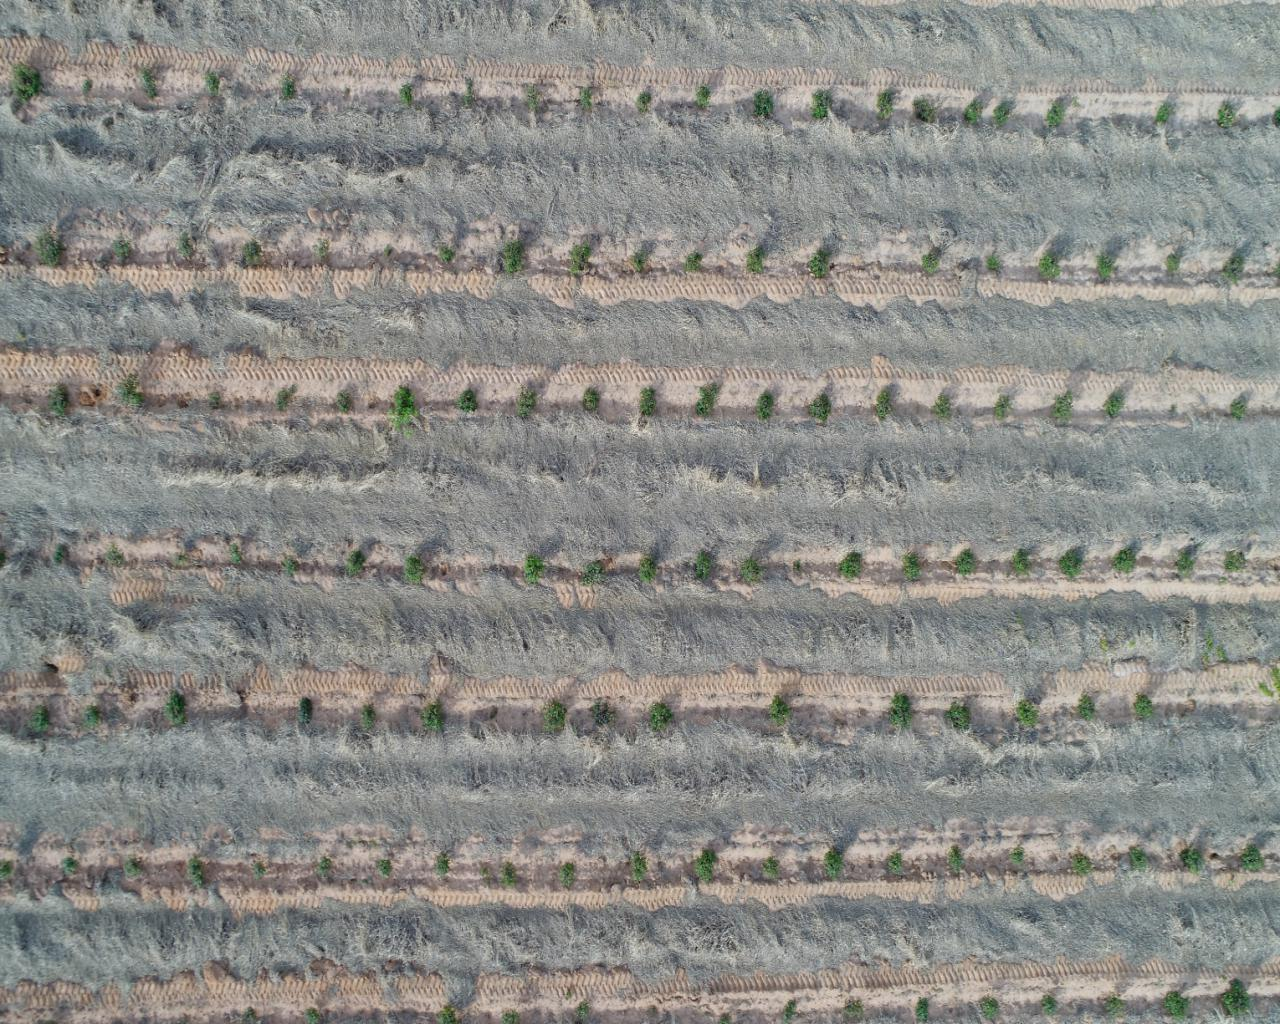Tree: (1218, 979, 1252, 1015), (402, 550, 424, 591), (886, 694, 915, 725), (942, 844, 970, 878), (114, 378, 144, 408), (766, 694, 792, 725), (691, 851, 715, 883), (1178, 844, 1205, 872), (1164, 991, 1191, 1019), (14, 68, 39, 97), (821, 852, 846, 880), (629, 852, 648, 889), (946, 702, 971, 729), (650, 704, 674, 732), (544, 700, 563, 736), (342, 549, 367, 575), (1015, 700, 1041, 725), (840, 552, 865, 578), (913, 93, 937, 120), (810, 391, 830, 423), (1076, 693, 1097, 723), (955, 548, 976, 578), (422, 702, 445, 729), (753, 91, 775, 119), (1240, 846, 1262, 875), (506, 239, 523, 274), (809, 91, 832, 117), (164, 695, 187, 721), (30, 705, 52, 732), (1060, 548, 1081, 575), (394, 391, 414, 420), (1094, 251, 1114, 280), (239, 239, 262, 264), (1035, 255, 1061, 278), (1112, 549, 1135, 574), (123, 859, 148, 882), (1069, 855, 1094, 878), (876, 89, 894, 119), (993, 99, 1011, 130), (809, 248, 825, 280), (187, 860, 207, 887), (1045, 102, 1064, 131), (635, 557, 657, 581), (1104, 994, 1126, 1018), (1223, 254, 1239, 285), (993, 394, 1014, 419), (754, 390, 771, 421), (178, 233, 197, 259), (111, 228, 130, 255), (1224, 551, 1247, 573), (695, 387, 713, 415), (585, 561, 604, 587), (904, 553, 921, 582), (921, 251, 941, 274), (1106, 392, 1125, 416), (589, 702, 613, 722), (51, 385, 67, 415), (79, 704, 98, 729), (1014, 548, 1030, 576), (517, 391, 535, 417), (639, 387, 655, 416), (695, 552, 711, 581), (842, 995, 863, 1017), (1134, 695, 1154, 718), (526, 557, 542, 584), (1165, 251, 1183, 276), (358, 704, 376, 729), (877, 391, 892, 419), (573, 242, 586, 275), (913, 999, 932, 1022), (43, 239, 61, 263), (981, 994, 998, 1019), (501, 864, 521, 884), (142, 70, 156, 100), (527, 85, 540, 115), (298, 697, 313, 723), (1054, 394, 1072, 417), (744, 557, 761, 581), (1156, 101, 1172, 124), (988, 250, 1003, 276), (888, 851, 903, 877), (684, 251, 700, 275), (560, 862, 576, 886), (312, 238, 330, 259), (764, 856, 779, 879), (1218, 106, 1235, 126), (435, 855, 451, 876), (746, 248, 762, 270), (398, 80, 413, 103), (1130, 848, 1144, 871), (313, 857, 329, 878), (106, 545, 123, 563), (1231, 399, 1248, 418), (1178, 557, 1193, 577), (578, 89, 592, 110), (1041, 995, 1055, 1016), (338, 389, 350, 413), (229, 543, 242, 565), (934, 396, 949, 416), (462, 79, 473, 104), (968, 99, 980, 122), (784, 998, 795, 1023), (205, 72, 218, 93), (439, 247, 456, 263), (458, 393, 473, 411), (374, 861, 392, 877), (283, 76, 296, 98), (1013, 848, 1026, 868), (697, 87, 709, 108), (584, 389, 598, 408), (284, 556, 300, 572), (275, 390, 288, 408), (61, 860, 78, 874), (632, 253, 645, 272), (792, 556, 805, 573), (637, 93, 650, 109), (717, 1013, 734, 1023), (211, 392, 219, 410), (79, 80, 91, 93), (170, 555, 186, 563), (1167, 403, 1180, 413), (56, 544, 63, 562), (255, 858, 260, 877), (385, 242, 391, 256)
